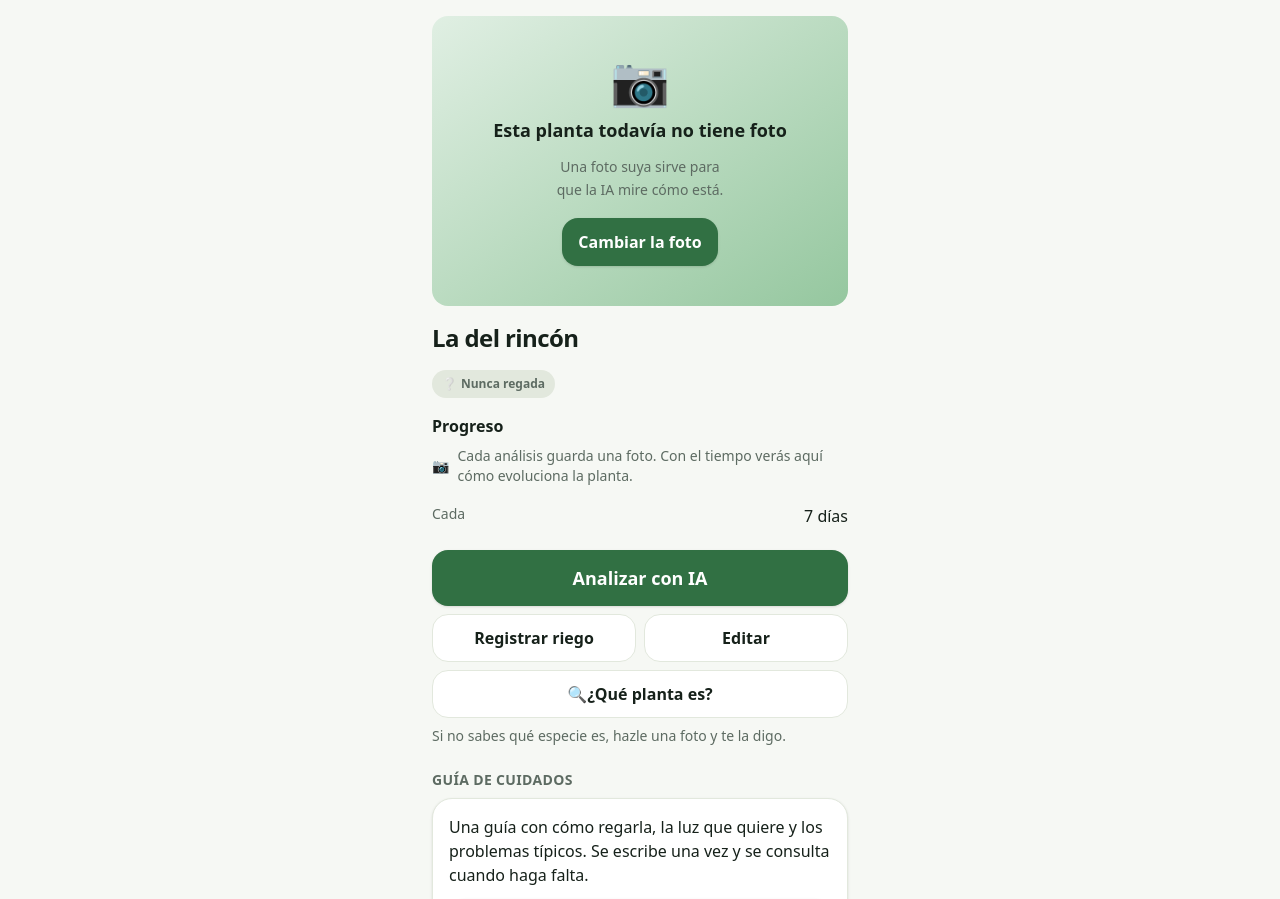
Test case: <DetallePlanta> › sin clave de IA no se identifica: explica dónde conseguirla
Click the button "🔍 ¿Qué planta es?" at {"x": 640, "y": 694}, box x1=432 y1=670 x2=848 y2=718
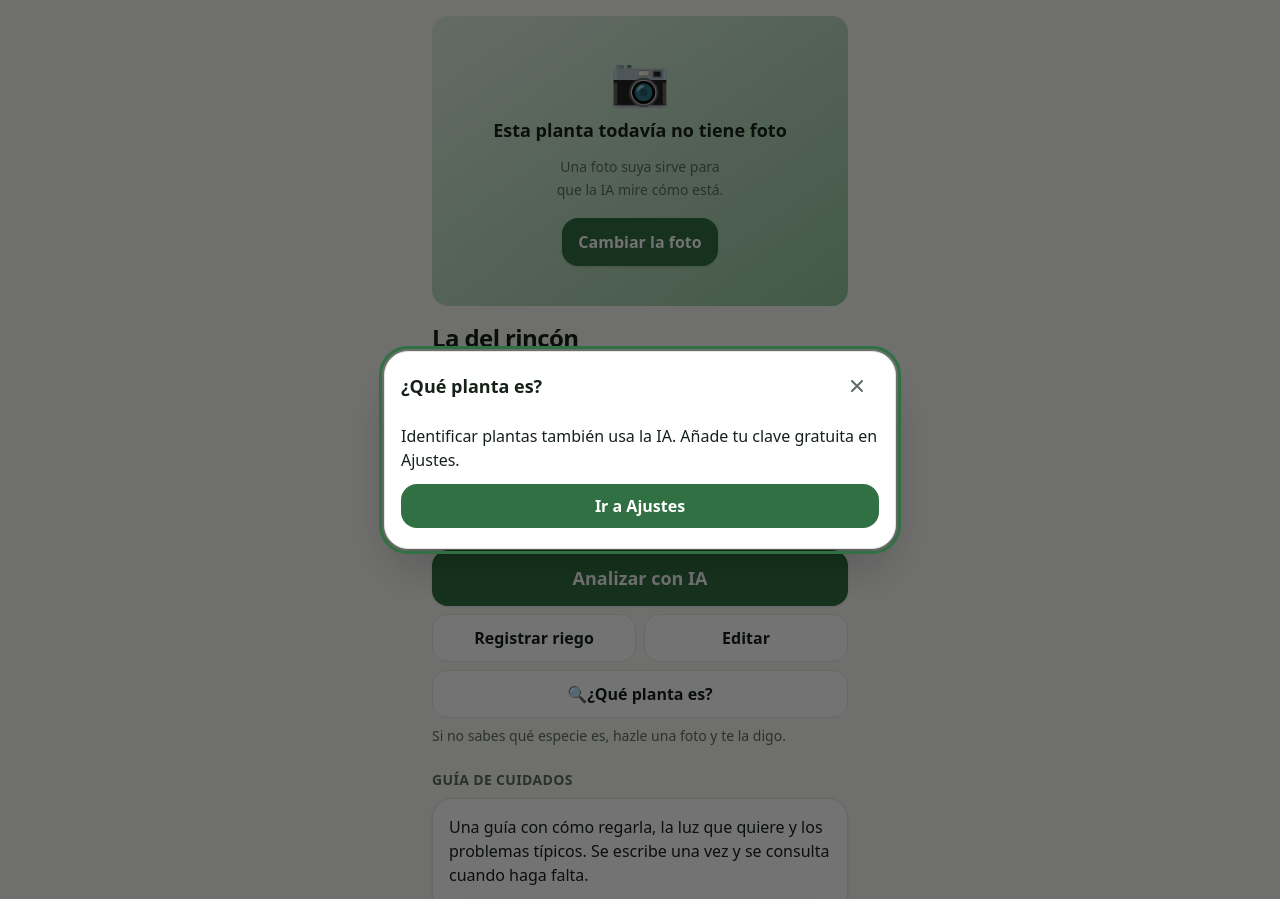
expect the text "Identificar plantas también usa la IA" is shown: met, box x1=401 y1=425 x2=877 y2=471
